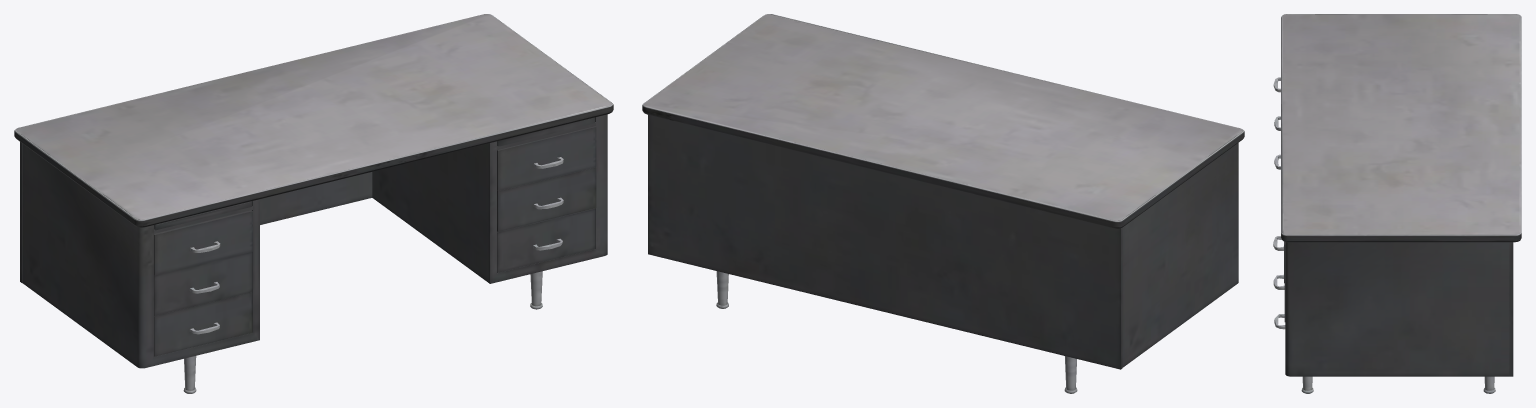
The model's file is metal_office_desk.glb.
3 renders of one model, left to right at view 1: azimuth 30°, elevation 25°; view 2: azimuth 150°, elevation 25°; view 3: azimuth 270°, elevation 25°, orthographic. The views are drawn at different scales.
Parts seen in each view (by area): view 1: metal_office_desk, metal_office_desk_drawer_04, metal_office_desk_drawer_01, metal_office_desk_drawer_02, metal_office_desk_drawer_03, metal_office_desk_drawer_06, metal_office_desk_drawer_05, metal_office_desk_tray_02, metal_office_desk_tray_01; view 2: metal_office_desk; view 3: metal_office_desk.
Boxes of the visible parts, <box> form: metal_office_desk: <box>14,14,613,393</box>; metal_office_desk_drawer_04: <box>154,210,252,275</box>; metal_office_desk_drawer_01: <box>497,126,596,191</box>; metal_office_desk_drawer_02: <box>497,167,596,231</box>; metal_office_desk_drawer_03: <box>497,208,595,272</box>; metal_office_desk_drawer_06: <box>154,292,252,356</box>; metal_office_desk_drawer_05: <box>154,252,252,315</box>; metal_office_desk_tray_02: <box>497,117,594,146</box>; metal_office_desk_tray_01: <box>154,201,252,230</box>; metal_office_desk: <box>642,14,1244,393</box>; metal_office_desk: <box>1281,14,1521,393</box>.
Size of the model in its own units: 2 by 0.7875 by 0.947.
Materials: 1 (1 with a texture image).
